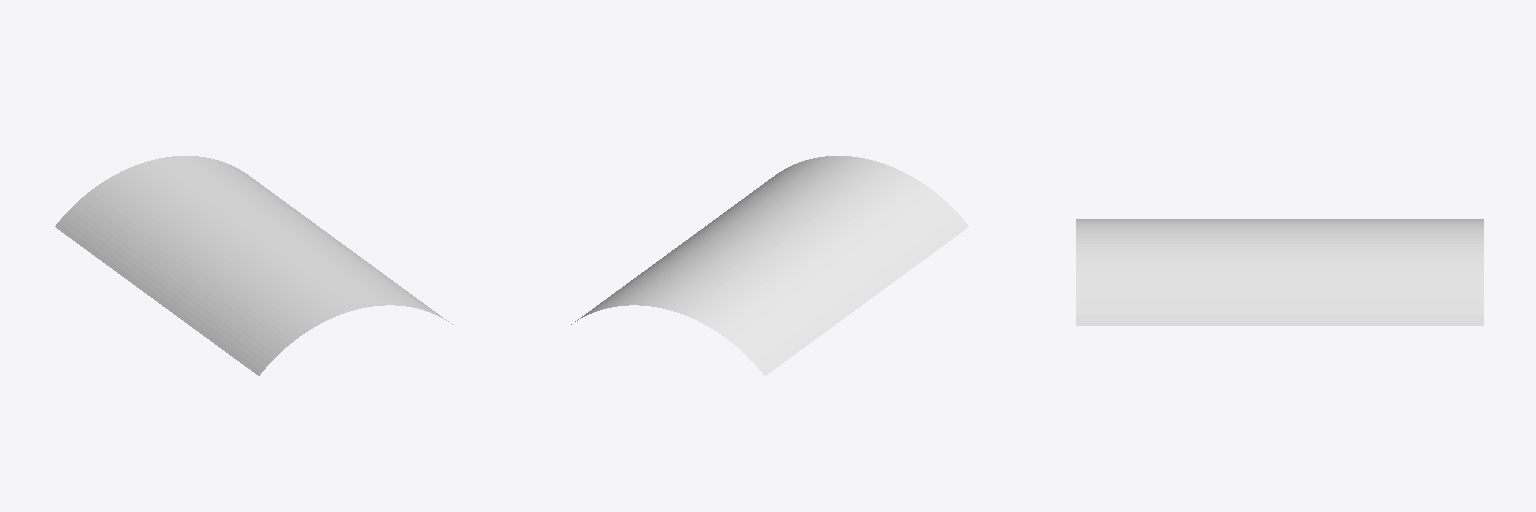
File: CylinderPlane2.obj
3 renders of one model, left to right at view 1: azimuth 30°, elevation 25°; view 2: azimuth 150°, elevation 25°; view 3: azimuth 270°, elevation 25°, orthographic.
Parts seen in each view (by area): view 1: mesh0.002; view 2: mesh0.002; view 3: mesh0.002.
Boxes of the visible parts, box(x1,y1,x2,y2) form: mesh0.002: box(55, 156, 452, 375); mesh0.002: box(571, 156, 968, 375); mesh0.002: box(1076, 219, 1483, 325).
Size of the model in its own units: 0.28 by 0.058 by 0.5.